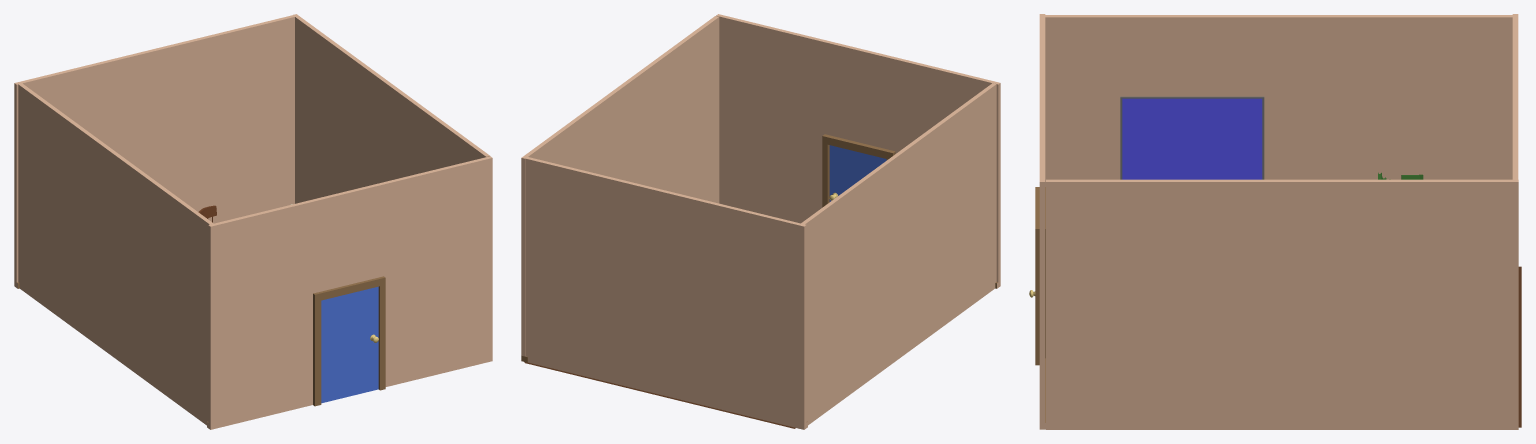
File: DetectiveOffice1.fbx
The picture shows the model from 3 angles, left to right: view 1: azimuth 30°, elevation 25°; view 2: azimuth 150°, elevation 25°; view 3: azimuth 270°, elevation 25°; orthographic projection. The views are drawn at different scales.
Parts seen in each view (by area): view 1: Wall.002, Wall.001, Wall.003, Wall, Door, DoorFrame; view 2: Wall.003, Wall.001, Wall.002, Wall, Door, DoorFrame, Floor; view 3: Wall, Wall.001, Plane, Wall.002, Wall.003, DoorFrame, Floor.
Boxes of the visible parts, box(x1,y1,x2,y2) form: Wall.002: box(207, 156, 492, 429); Wall.001: box(18, 83, 213, 425); Wall.003: box(14, 14, 298, 288); Wall: box(293, 14, 489, 203); Door: box(321, 286, 378, 403); DoorFrame: box(313, 276, 385, 406); Wall.003: box(522, 156, 807, 429); Wall.001: box(799, 83, 996, 425); Wall.002: box(716, 14, 1000, 288); Wall: box(521, 16, 719, 362); Door: box(829, 145, 886, 201); DoorFrame: box(822, 134, 895, 207); Floor: box(524, 362, 795, 428); Wall: box(1046, 179, 1518, 429); Wall.001: box(1045, 15, 1512, 186); Plane: box(1120, 96, 1264, 179); Wall.002: box(1039, 14, 1045, 429); Wall.003: box(1512, 14, 1518, 181); DoorFrame: box(1035, 187, 1045, 365); Floor: box(1518, 266, 1521, 427).
Bounding box in the file's own units: 1686 × 1160 × 2086.
